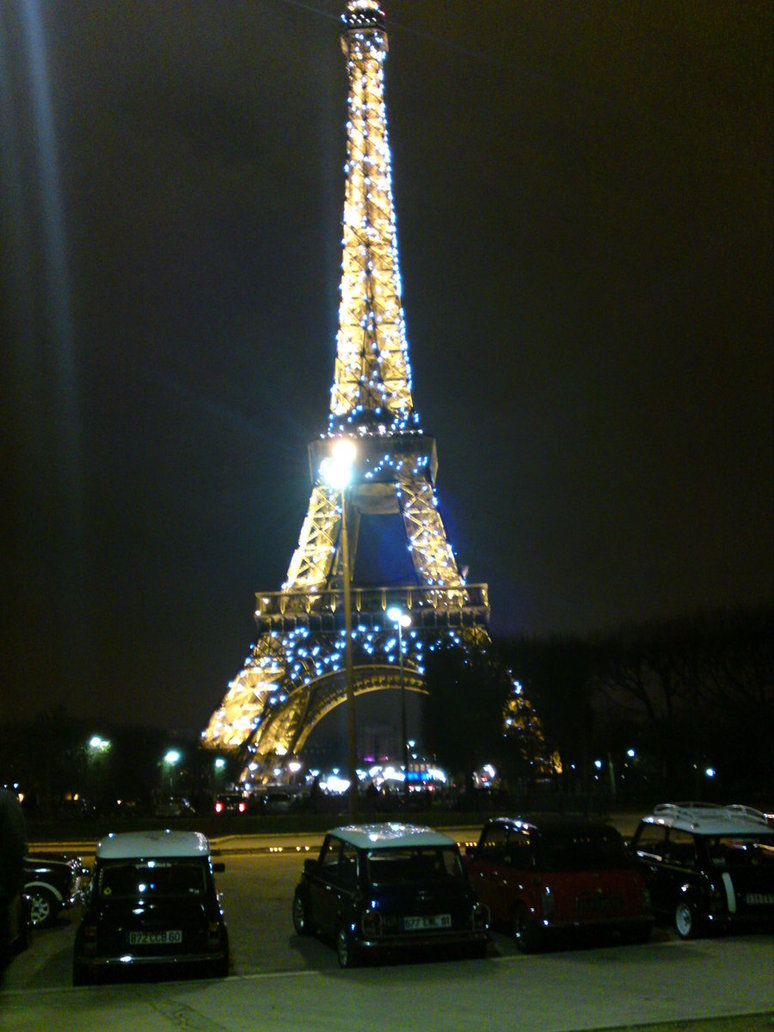car: (53, 825, 239, 1002)
